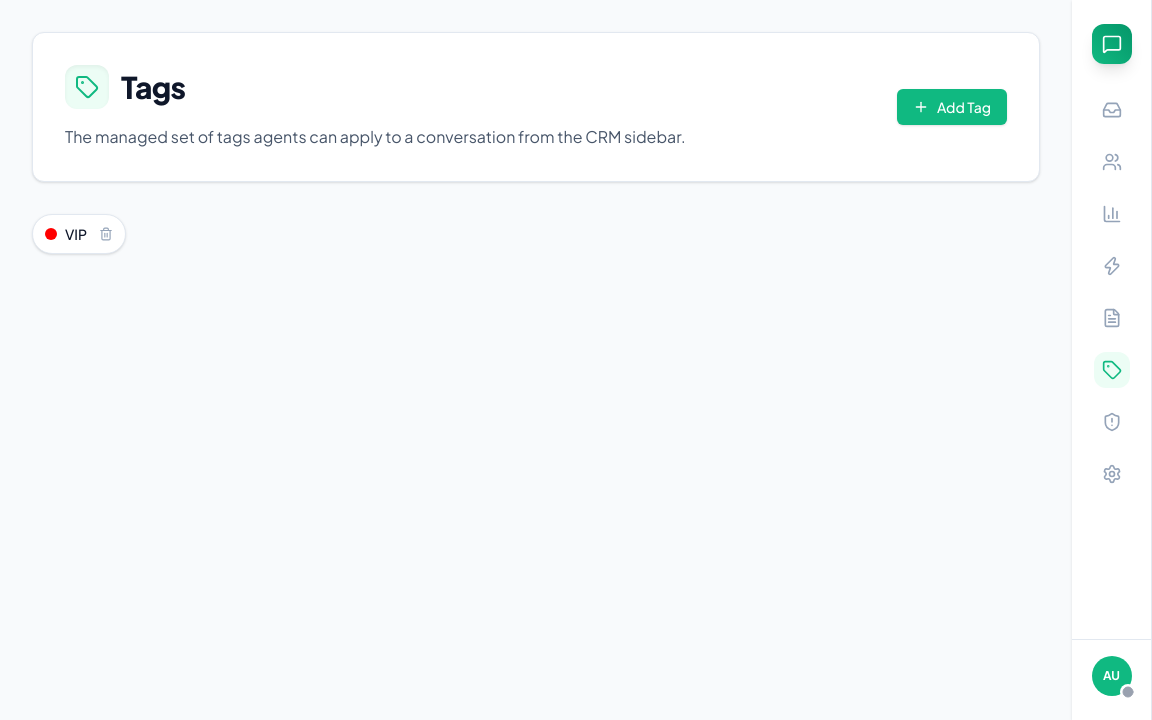
Admin Tags Page › deletes a tag via confirmation
The image size is (1152, 720).
Check: the text "VIP" is shown, box [65,224,87,244]
Click the button titled "Delete tag" at (106, 234), box [95,223,117,245]
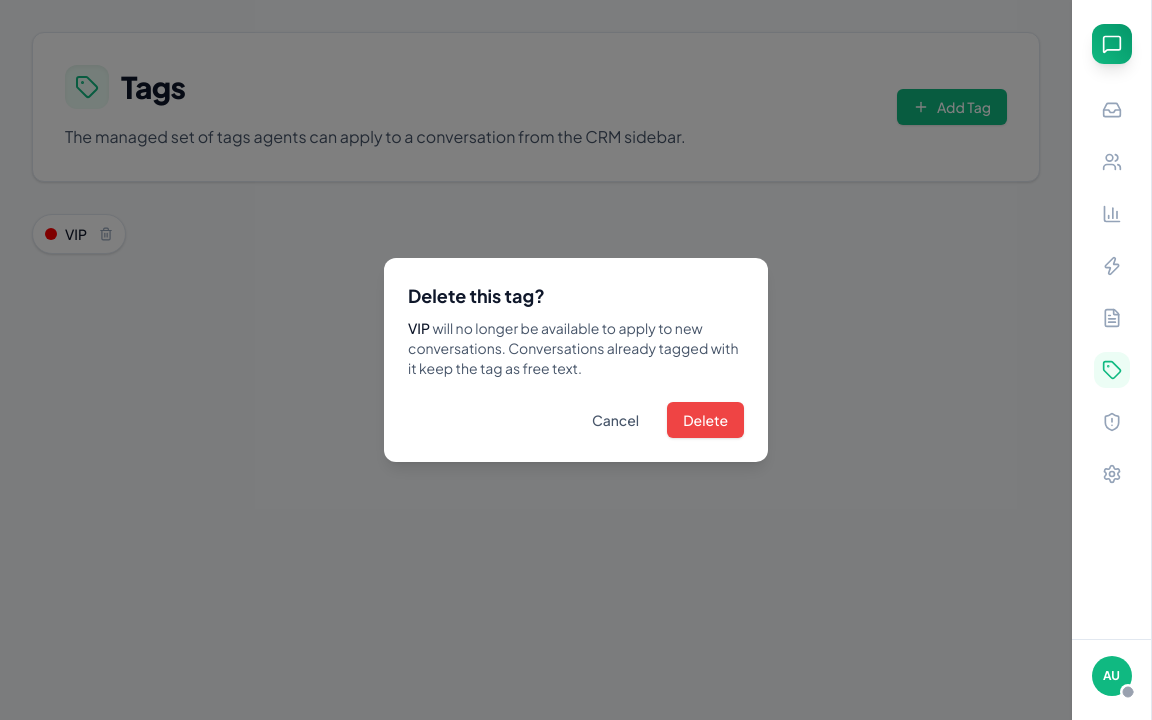
Click the button "Delete" at (706, 420), box [667,402,744,438]
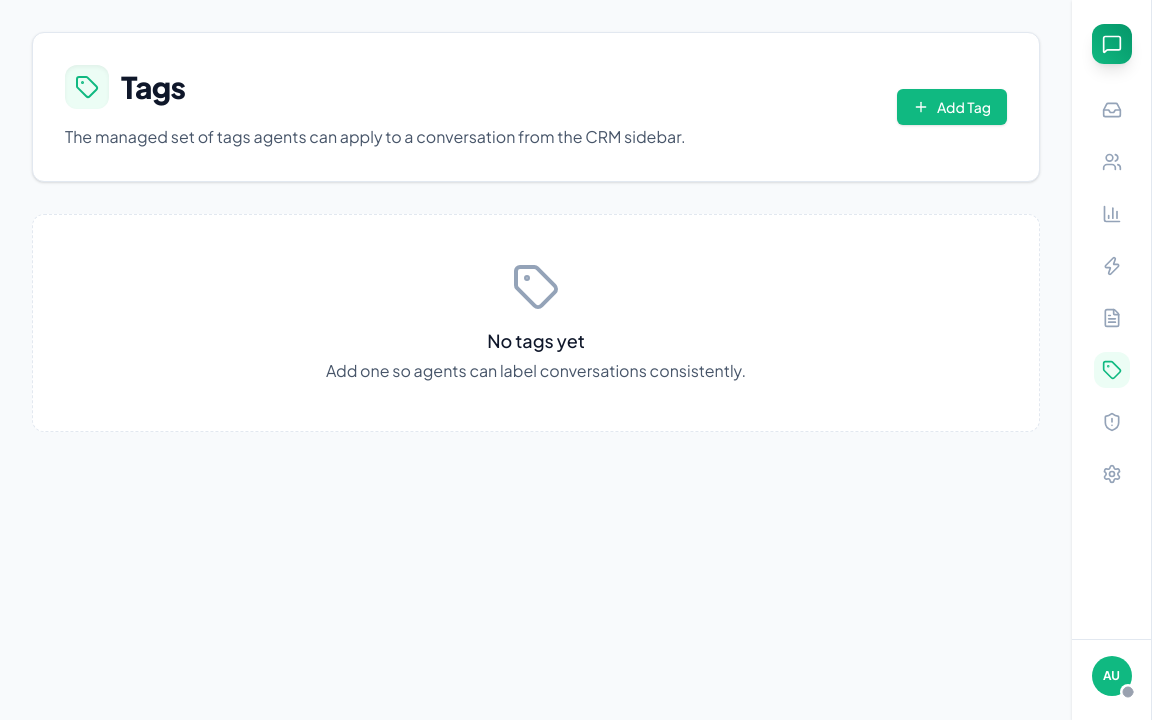
Check: the text "VIP" is gone
